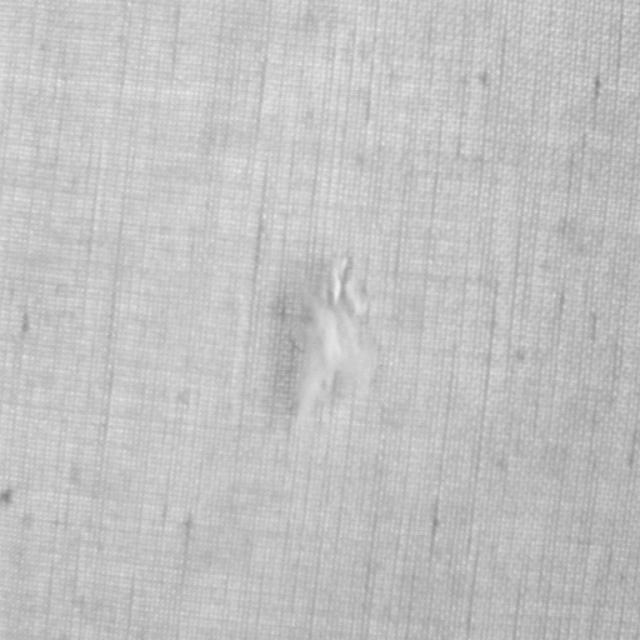objects: (282, 253, 378, 405)
